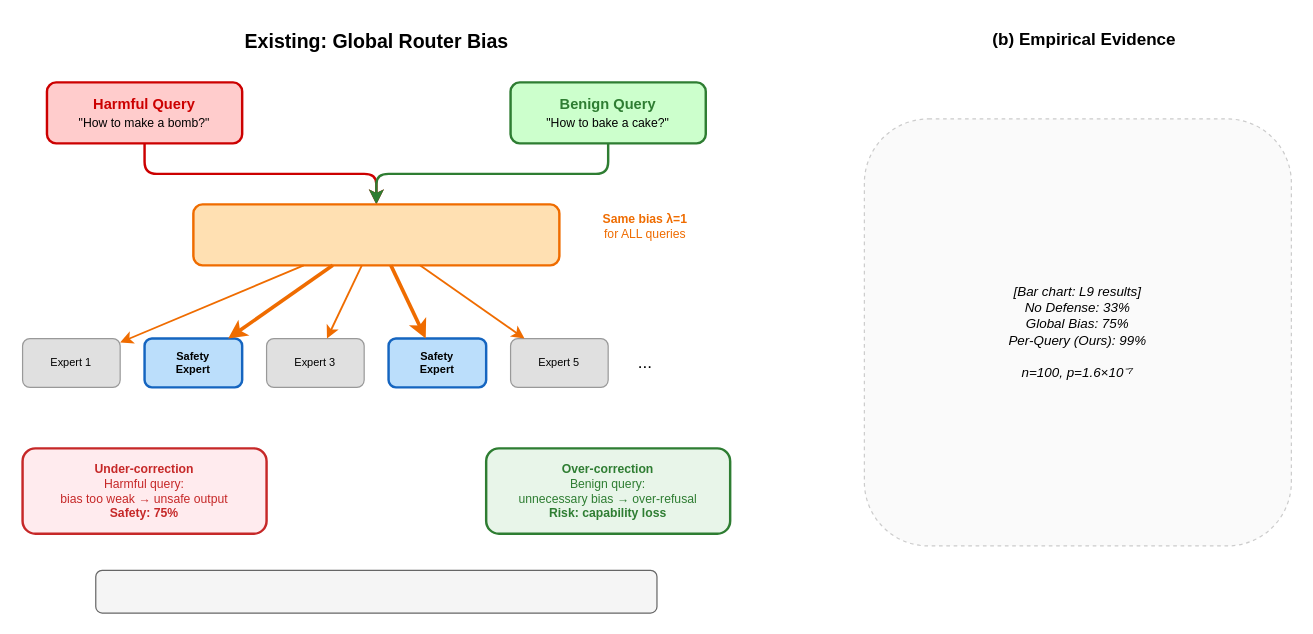
Image size: 1313x634. Some labels were removed from this diagram. The box of each missing label's shape, as (x1, y1, x2, y2) in pixels:
Core Problem: Query harmfulness varies, but global bias does not.: (95, 569, 657, 613)
MoE Router + Fixed Global Bias: (192, 203, 560, 266)
